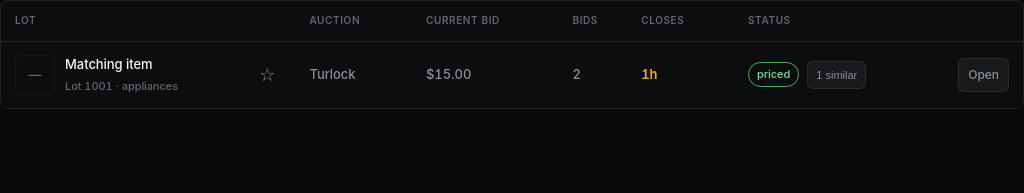
Test: bidrl screens › collapses same lots in table view and expands their similar rows
Click the button "1 similar": (837, 74) x1=807 y1=60 x2=866 y2=88
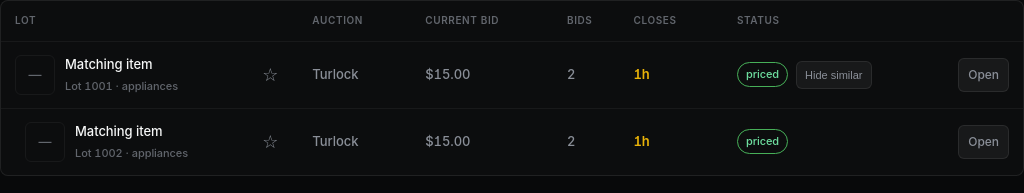
Expected: the text "Lot 1001" is shown, x1=65 y1=78 x2=178 y2=92
Expected: the text "Lot 1002" is shown, x1=75 y1=146 x2=188 y2=160
